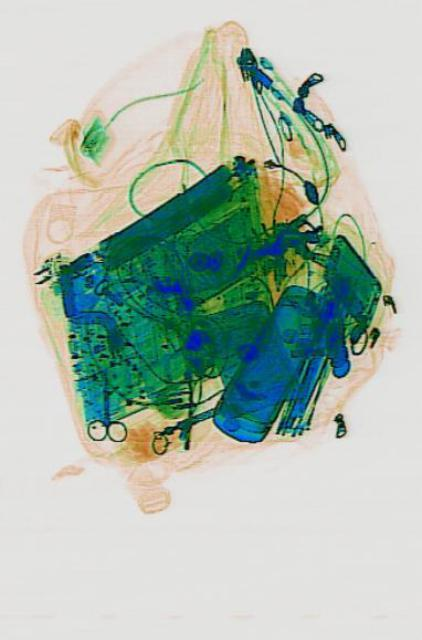Scissors: (84, 373, 125, 441)
